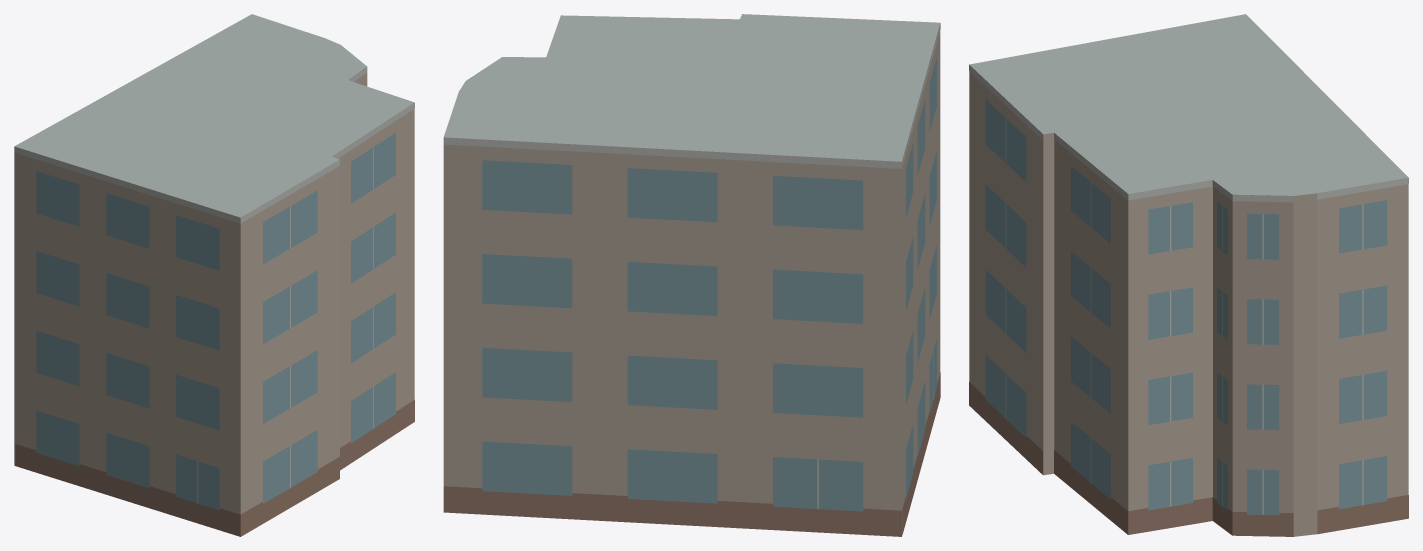
File: survey-upis-32738190.glb
3 views of the same model, side by side, from view 1: azimuth 30°, elevation 25°; view 2: azimuth 150°, elevation 25°; view 3: azimuth 270°, elevation 25° (orthographic). The views are drawn at different scales.
Parts seen in each view (by area): view 1: survey-upis-32738190.tmp; view 2: survey-upis-32738190.tmp; view 3: survey-upis-32738190.tmp.
Boxes of the visible parts, box(x1,y1,x2,y2) form: survey-upis-32738190.tmp: box(14, 14, 414, 536); survey-upis-32738190.tmp: box(443, 14, 940, 536); survey-upis-32738190.tmp: box(969, 14, 1408, 536).
Size of the model in its own units: 14.77 by 12.9 by 15.08.
